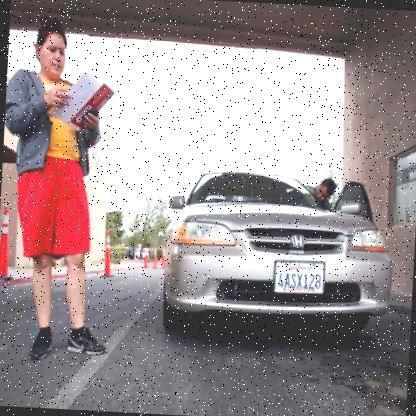License-Plate: (272, 258, 326, 297)
